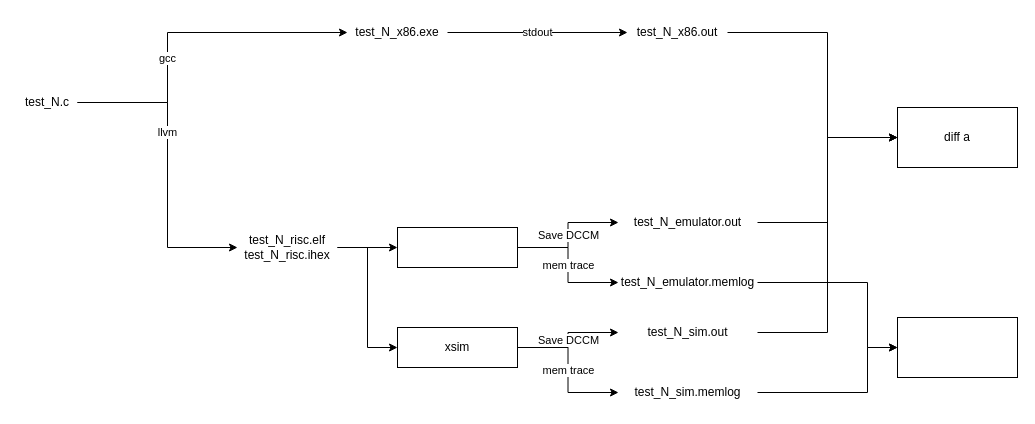
This 1035x424 diagram has some shape labels left out. The box of each missing label's shape, as (x1, y1, x2, y2) in pixels:
diff b: (896, 316, 1018, 378)
risc_emulator: (396, 226, 518, 268)
